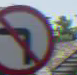Don't turn left: (1, 3, 53, 74)
